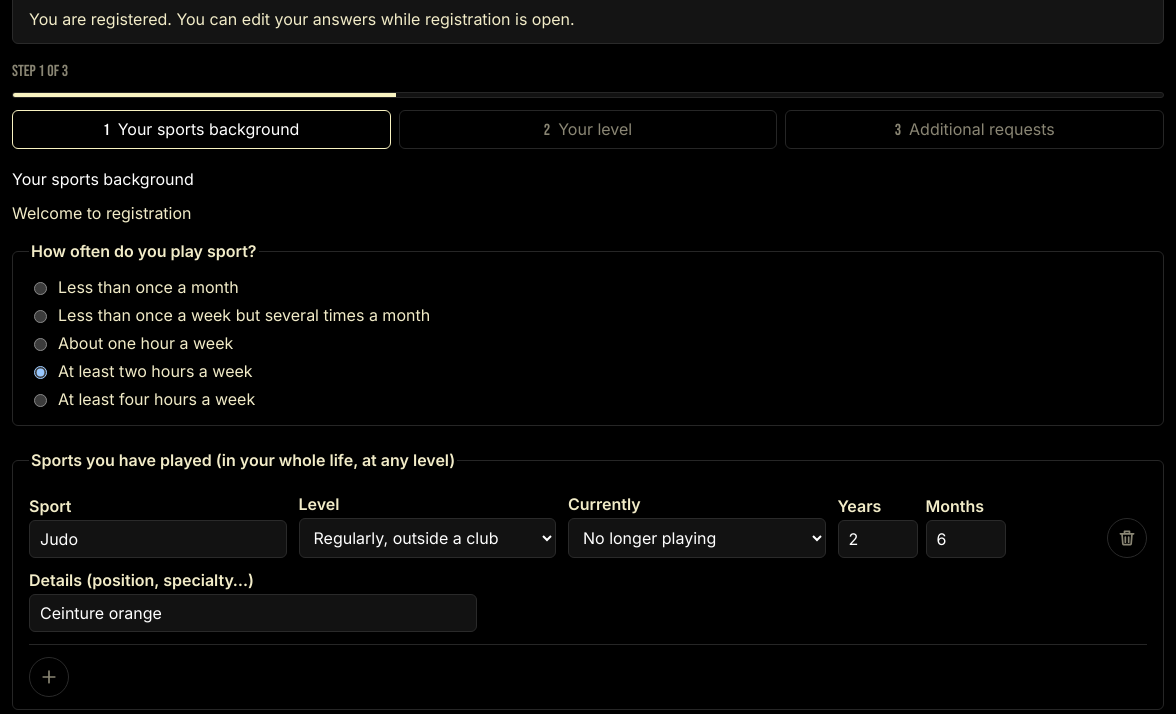
Test: RegistrationForm wizard › lets a registered player jump to any step
Click the button "3 Additional requests": (975, 130) [785,110,1164,149]
(page scrolled)
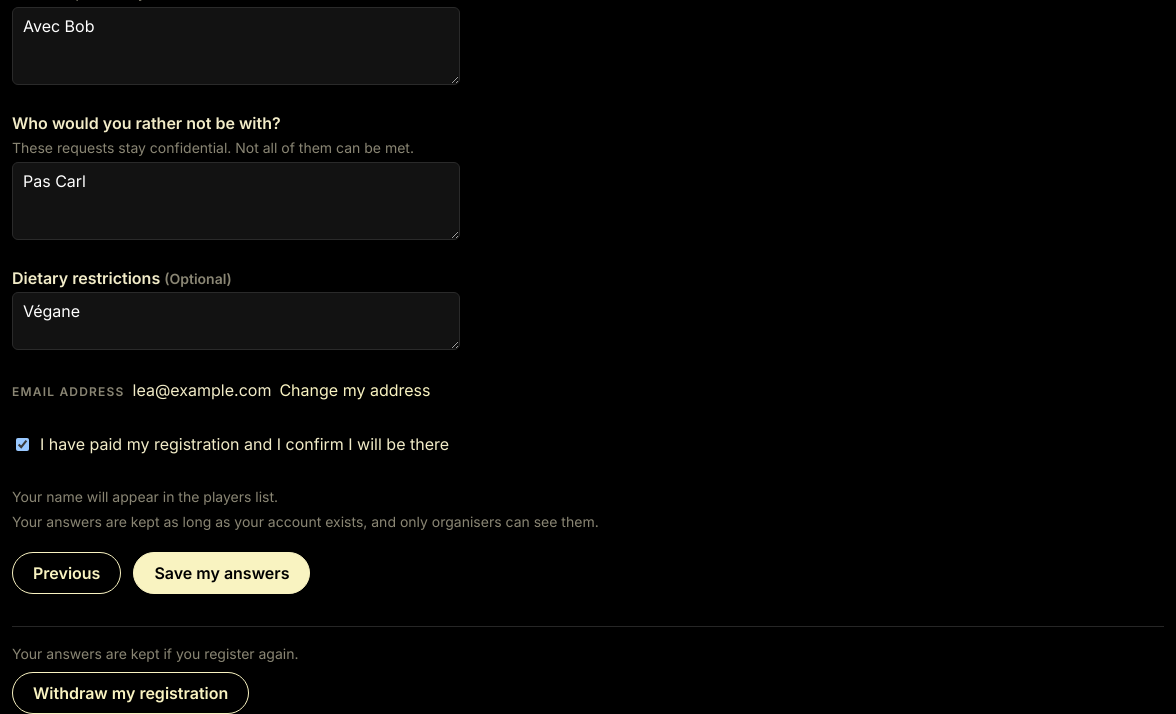
Expected: the button "Save my answers" is shown, [133,552,310,594]
Expected: the button "Withdraw my registration" is shown, [12,672,249,713]
